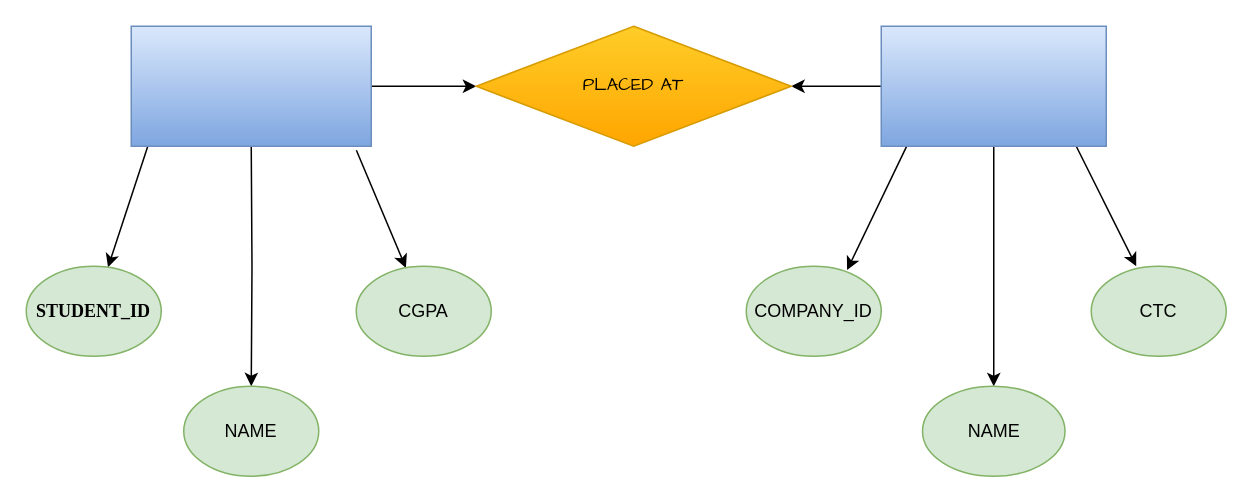
Image size: 1253x503. Some labels were removed from this diagram. The centre of each missing label's shape, as x and y in pixels:
COMPANIES: pixel 993 85
STUDENTS: pixel 250 85
